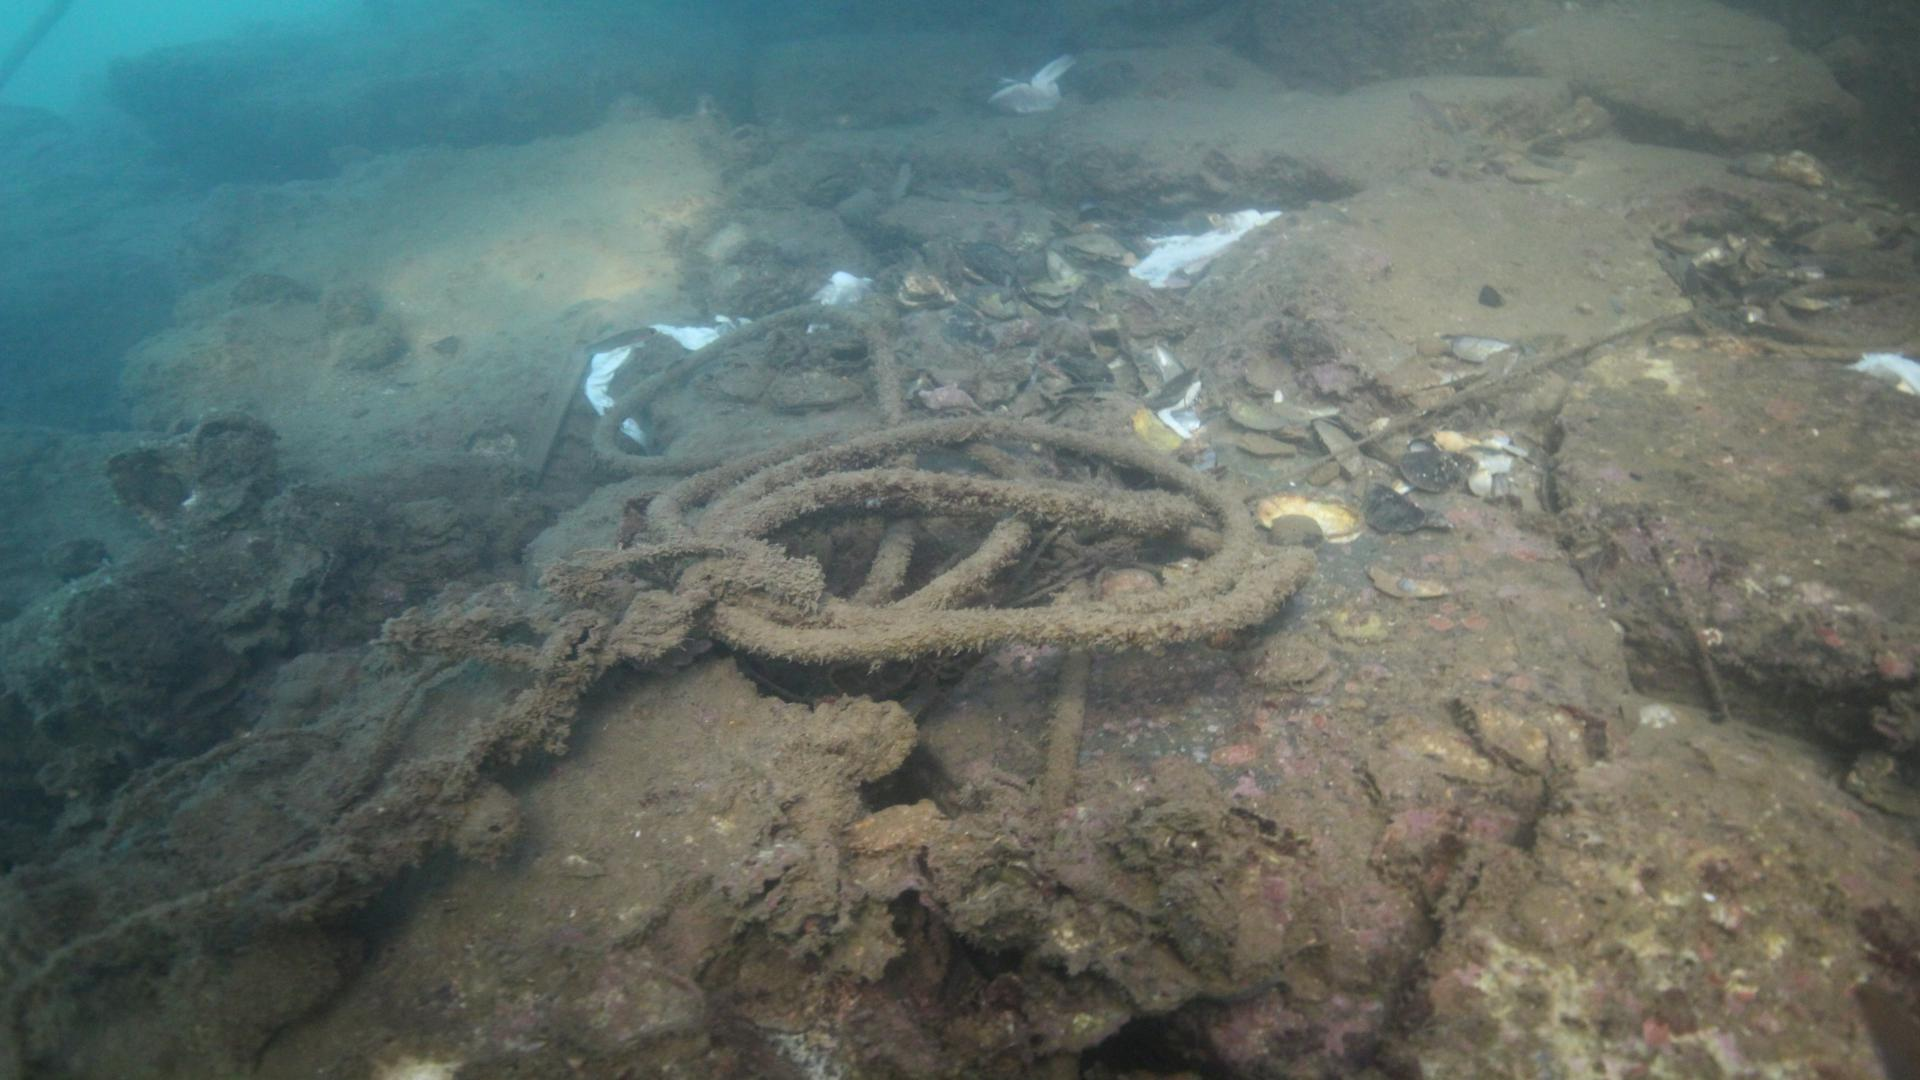bundle of ropes: (585, 290, 1320, 845)
